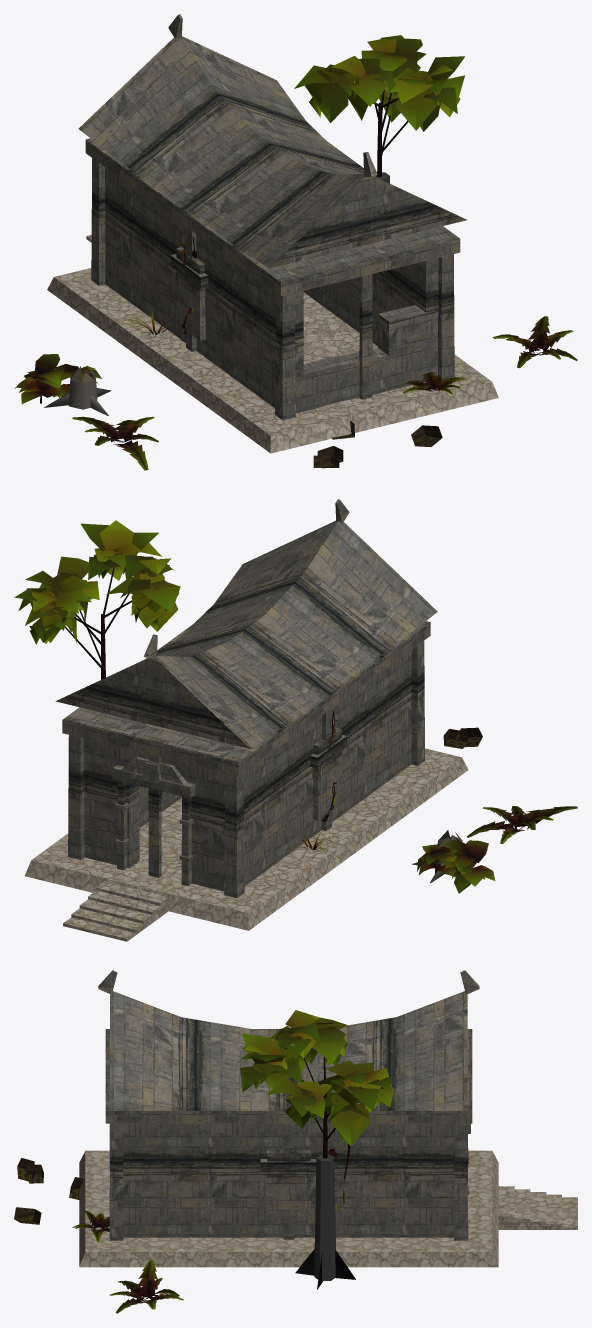
Rendered from prasat_ruin_05.glb.
The picture shows the model from 3 angles, top to bottom: view 1: azimuth 30°, elevation 25°; view 2: azimuth 150°, elevation 25°; view 3: azimuth 270°, elevation 25°; orthographic projection. The views are drawn at different scales.
Parts seen in each view (by area): view 1: prasat_ruin_05, prasat_ruin_05_veg_00_broadleaf_c, prasat_ruin_05_veg_07_fern_c, prasat_ruin_05_veg_09_bush_b, prasat_ruin_05_veg_13_tree_stump, prasat_ruin_05_veg_06_fern_a, prasat_ruin_05_veg_10_fern_b; view 2: prasat_ruin_05, prasat_ruin_05_veg_00_broadleaf_c, prasat_ruin_05_veg_09_bush_b, prasat_ruin_05_veg_07_fern_c, prasat_ruin_05_veg_08_bush_a; view 3: prasat_ruin_05, prasat_ruin_05_veg_00_broadleaf_c, prasat_ruin_05-col, prasat_ruin_05_veg_06_fern_a, prasat_ruin_05_veg_10_fern_b.
Part boxes in pixels (box(x1,y1,x2,y2)): prasat_ruin_05: box(47, 14, 498, 468); prasat_ruin_05_veg_00_broadleaf_c: box(294, 35, 464, 177); prasat_ruin_05_veg_07_fern_c: box(72, 416, 158, 470); prasat_ruin_05_veg_09_bush_b: box(14, 354, 63, 403); prasat_ruin_05_veg_13_tree_stump: box(44, 365, 111, 415); prasat_ruin_05_veg_06_fern_a: box(492, 316, 577, 368); prasat_ruin_05_veg_10_fern_b: box(403, 371, 467, 394); prasat_ruin_05: box(24, 499, 482, 941); prasat_ruin_05_veg_00_broadleaf_c: box(14, 520, 180, 679); prasat_ruin_05_veg_09_bush_b: box(443, 839, 495, 893); prasat_ruin_05_veg_07_fern_c: box(467, 806, 577, 844); prasat_ruin_05_veg_08_bush_a: box(417, 843, 457, 877); prasat_ruin_05: box(14, 970, 577, 1267); prasat_ruin_05_veg_00_broadleaf_c: box(240, 1010, 394, 1289); prasat_ruin_05-col: box(314, 1154, 335, 1280); prasat_ruin_05_veg_06_fern_a: box(109, 1260, 183, 1313); prasat_ruin_05_veg_10_fern_b: box(72, 1210, 109, 1242).
Size of the model in its own units: 11.93 by 6.25 by 12.79.
15 materials, 15 textured.
